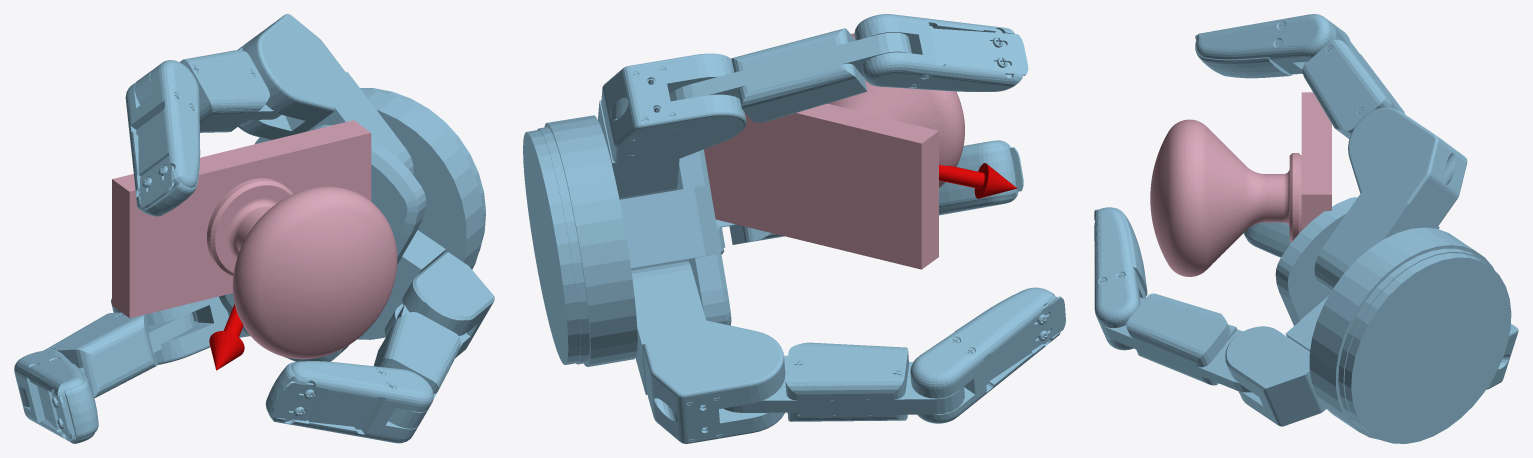
3 renders of one model, left to right at view 1: azimuth 30°, elevation 25°; view 2: azimuth 150°, elevation 25°; view 3: azimuth 270°, elevation 25°, orthographic. The views are drawn at different scales.
Parts seen in each view (by area): view 1: world, door_knob.stl; view 2: world, door_knob.stl; view 3: world, door_knob.stl.
Part boxes in pixels (<box>): world: <box>14,14,494,443</box>; door_knob.stl: <box>112,120,397,359</box>; world: <box>523,14,1065,443</box>; door_knob.stl: <box>704,33,964,269</box>; world: <box>1094,14,1518,443</box>; door_knob.stl: <box>1150,92,1331,276</box>.
Bounding box in the file's own units: 0.1995 × 0.1485 × 0.175.
